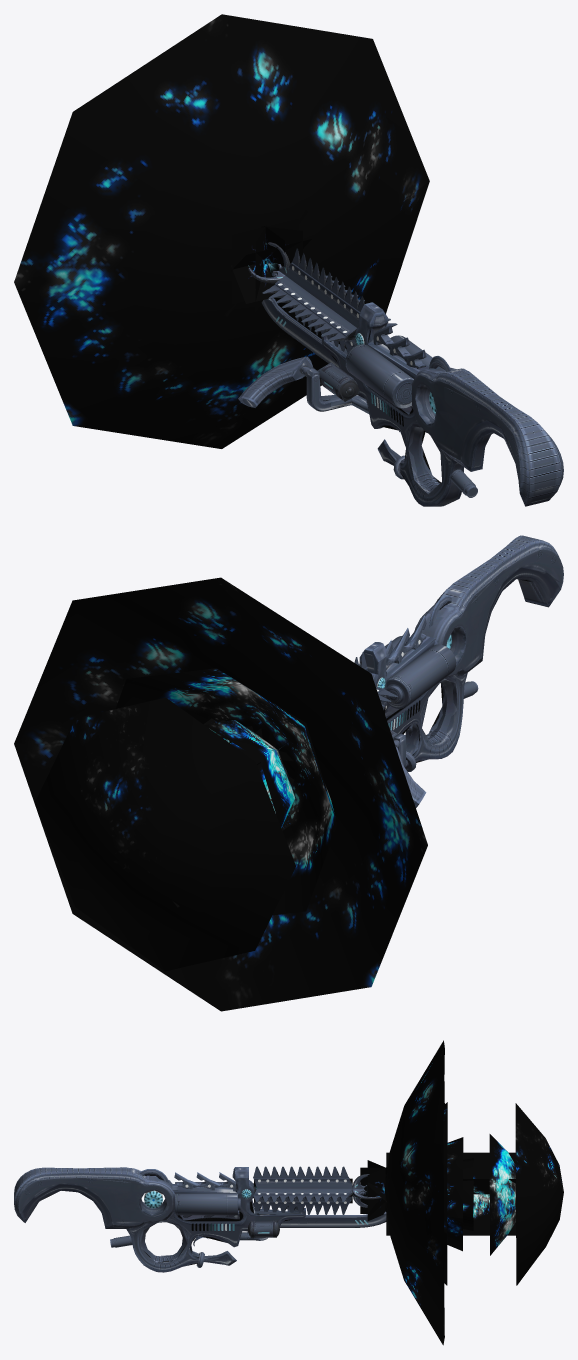
The model's file is TP_Kralmok.DAE.
3 views of the same model, one above another, from view 1: azimuth 30°, elevation 25°; view 2: azimuth 150°, elevation 25°; view 3: azimuth 270°, elevation 25° (orthographic). The views are drawn at different scales.
Parts seen in each view (by area): view 1: Kraad_MuzzleFlash4_LOD300, Kralmok_LOD200, Kralmok_LOD300, Kralmok_LOD100; view 2: Kraad_MuzzleFlash4_LOD300, Kraad_MuzzleFlash3_LOD300, Kralmok_LOD200, Kralmok_LOD100, Kralmok_LOD300, Kraad_MuzzleFlash2_LOD300; view 3: Kraad_MuzzleFlash4_LOD300, Kralmok_LOD100, Kralmok_LOD200, Kralmok_LOD300, Kraad_MuzzleFlash3_LOD300, Kraad_MuzzleFlash1_LOD300, Kraad_MuzzleFlash2_LOD300.
Boxes of the visible parts, x1,y1,x2,y2 form: Kraad_MuzzleFlash4_LOD300: (14,14,429,448); Kralmok_LOD200: (231,218,561,504); Kralmok_LOD300: (238,242,563,506); Kralmok_LOD100: (250,244,519,504); Kraad_MuzzleFlash4_LOD300: (14,577,427,1011); Kraad_MuzzleFlash3_LOD300: (115,668,337,915); Kralmok_LOD200: (225,535,563,807); Kralmok_LOD100: (354,542,561,789); Kralmok_LOD300: (229,535,563,807); Kraad_MuzzleFlash2_LOD300: (204,718,295,829); Kraad_MuzzleFlash4_LOD300: (384,1040,563,1345); Kralmok_LOD100: (20,1166,386,1269); Kralmok_LOD200: (16,1160,387,1271); Kralmok_LOD300: (14,1167,387,1272); Kraad_MuzzleFlash3_LOD300: (386,1102,515,1285); Kraad_MuzzleFlash1_LOD300: (386,1152,515,1235); Kraad_MuzzleFlash2_LOD300: (386,1137,463,1251).
Size of what is drawn, in the model's own units: 110 by 190 by 110.
